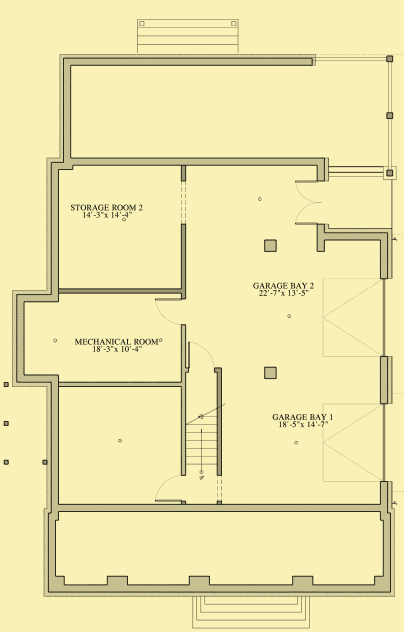door: (292, 179, 326, 228), (153, 294, 188, 328), (151, 472, 183, 503), (186, 341, 213, 375)
stairs: (184, 407, 217, 473)
